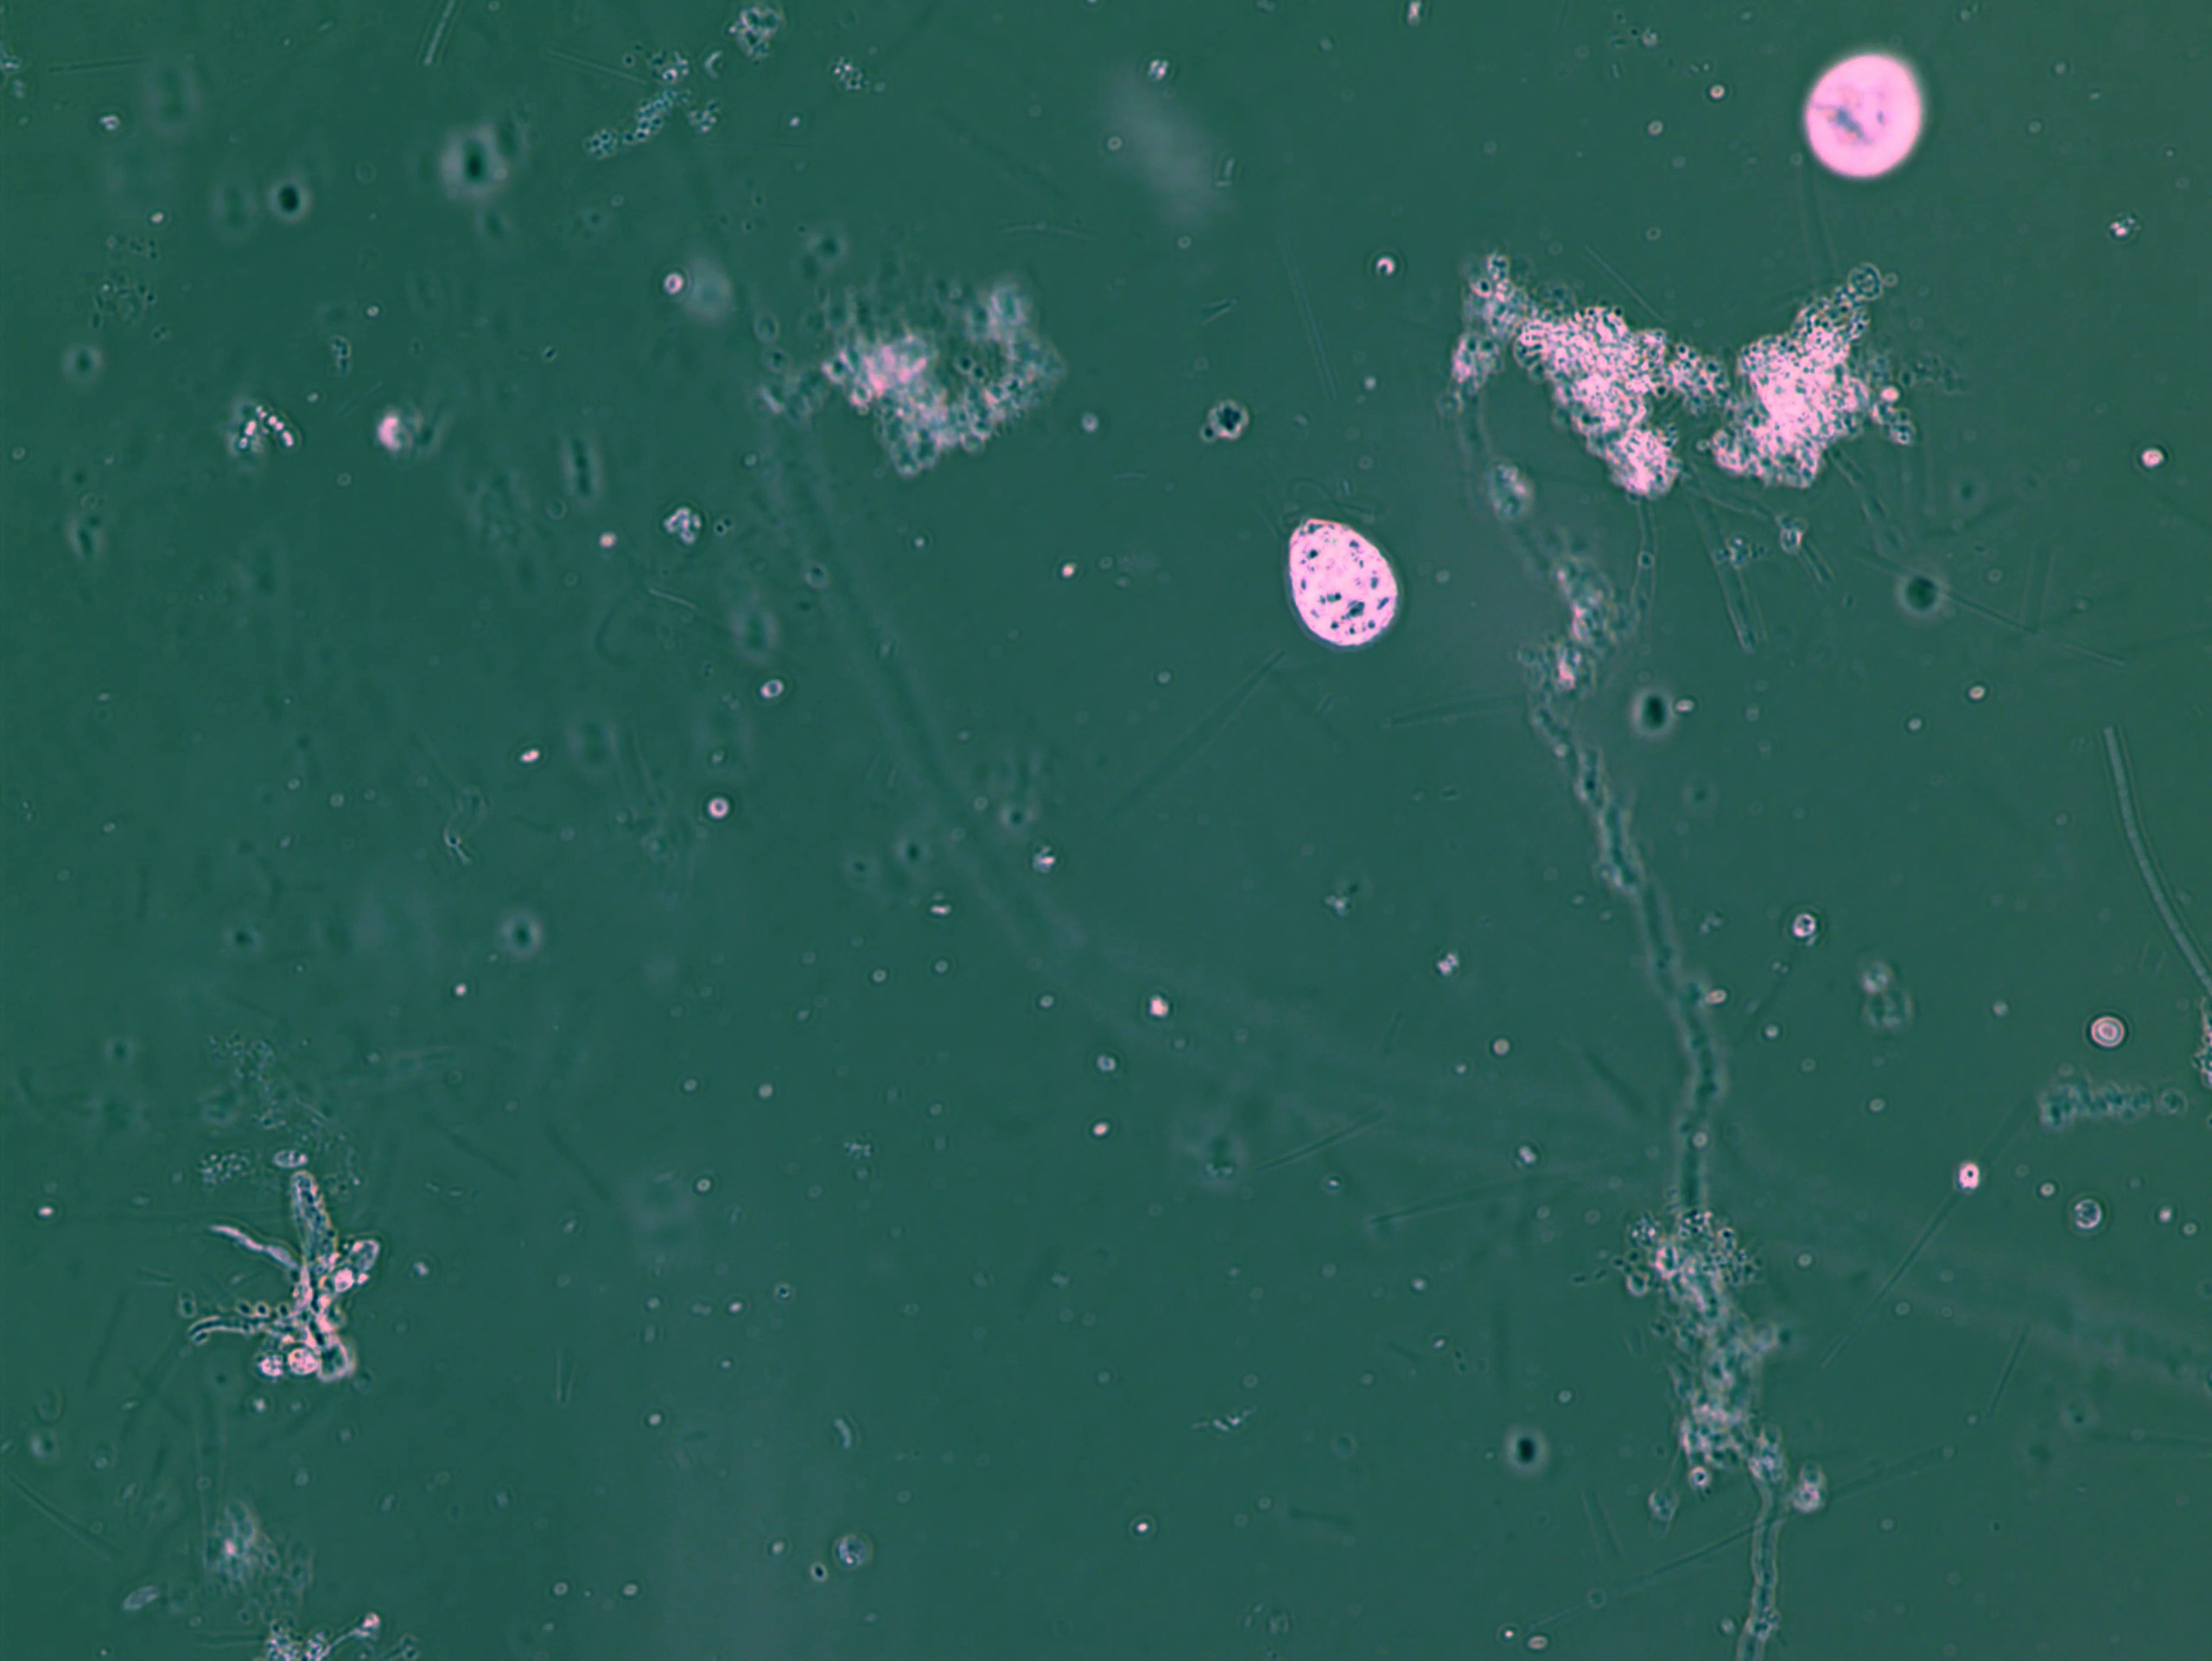depth:0: (1254, 492, 1420, 691)
